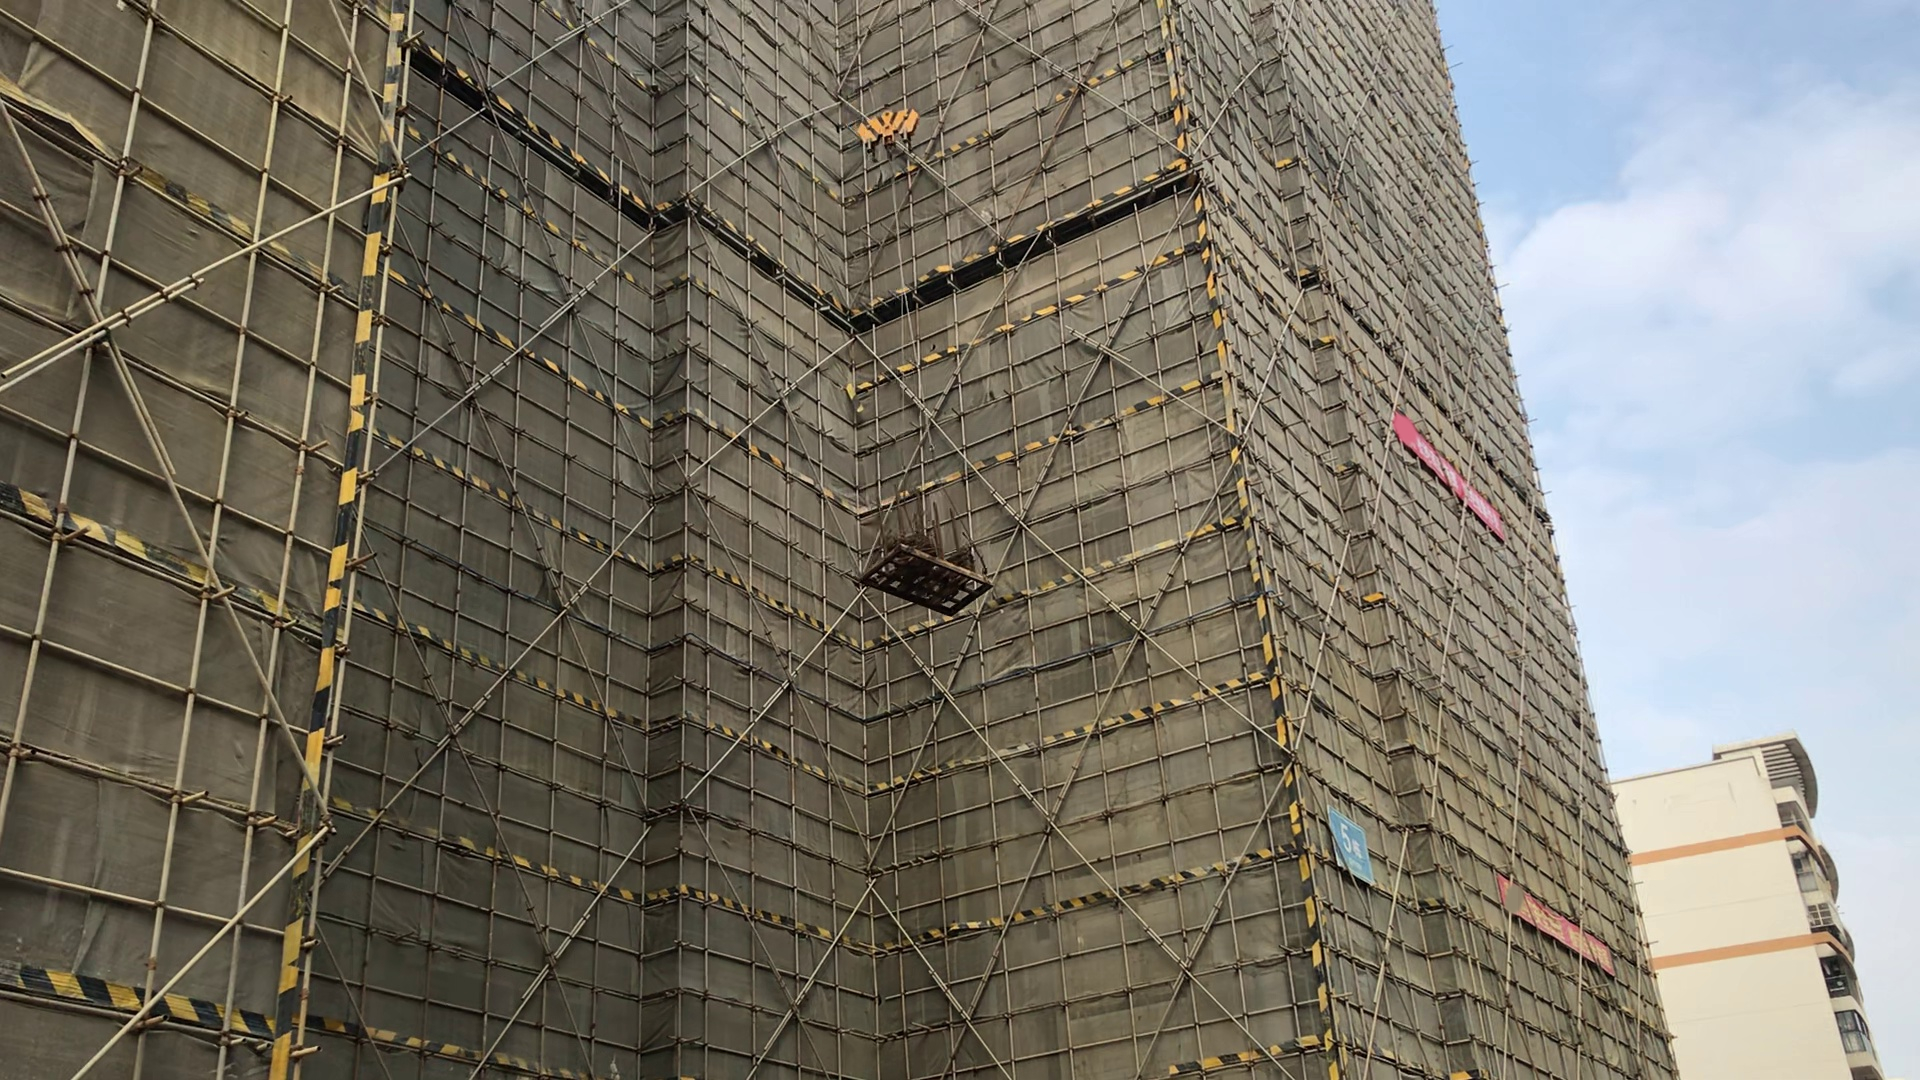fence: (1391, 415, 1507, 539), (1503, 884, 1615, 969), (1336, 815, 1371, 880)
hook: (848, 100, 918, 160)
